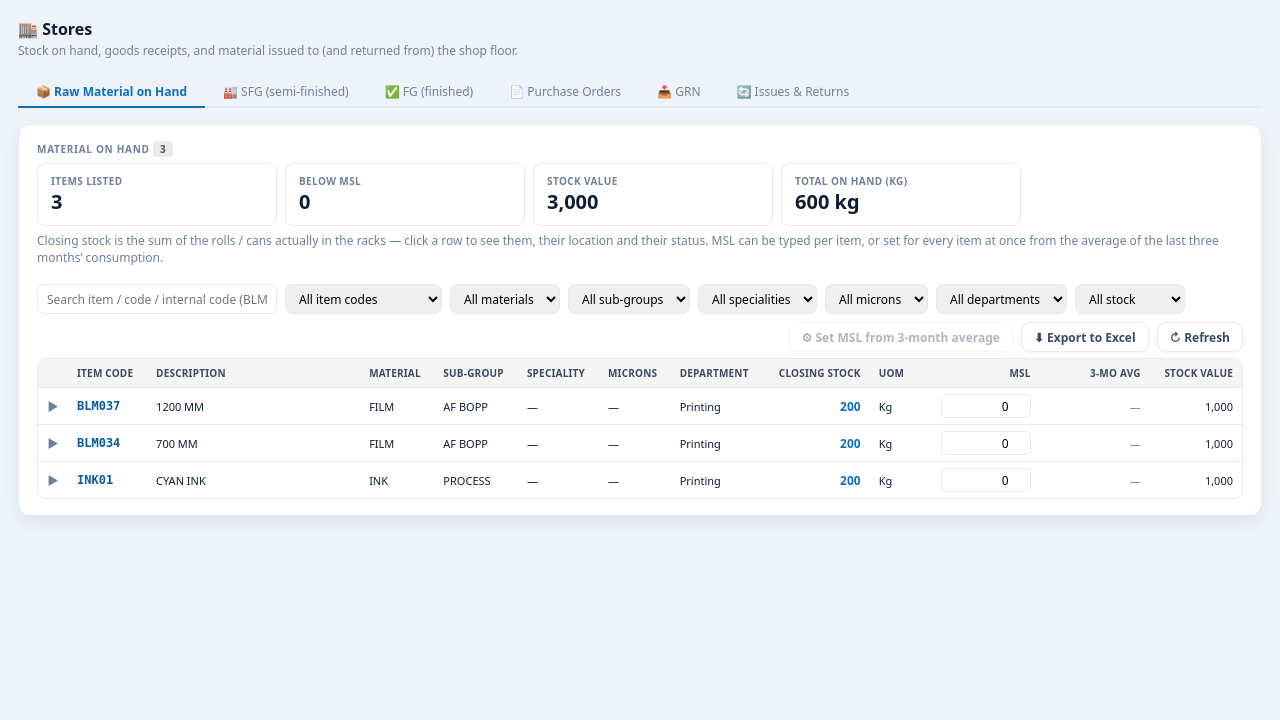
Test: Stores — the on-hand board › finds an item by a roll's internal code, and the split tag opens the trace
This screenshot has width=1280, height=720.
Expected: the text "BLM037" is shown, [68,388,147,424]
In the field named "Search items": (157, 299) [37,284,277,314], type "332"
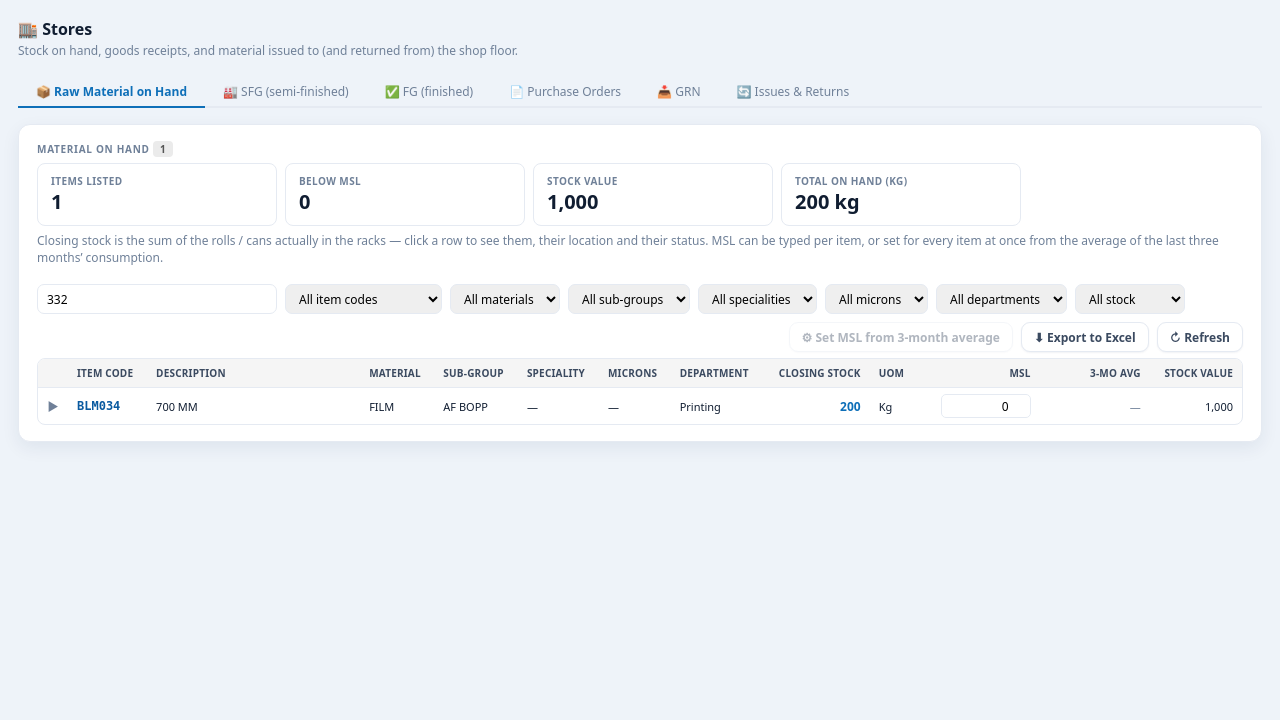
Expected: the text "BLM034" is shown, [68,388,147,424]
Now the text "BLM037" is gone
Replace the text in the field named "Search items" with "blmu-7": (157, 299) [37,284,277,314]
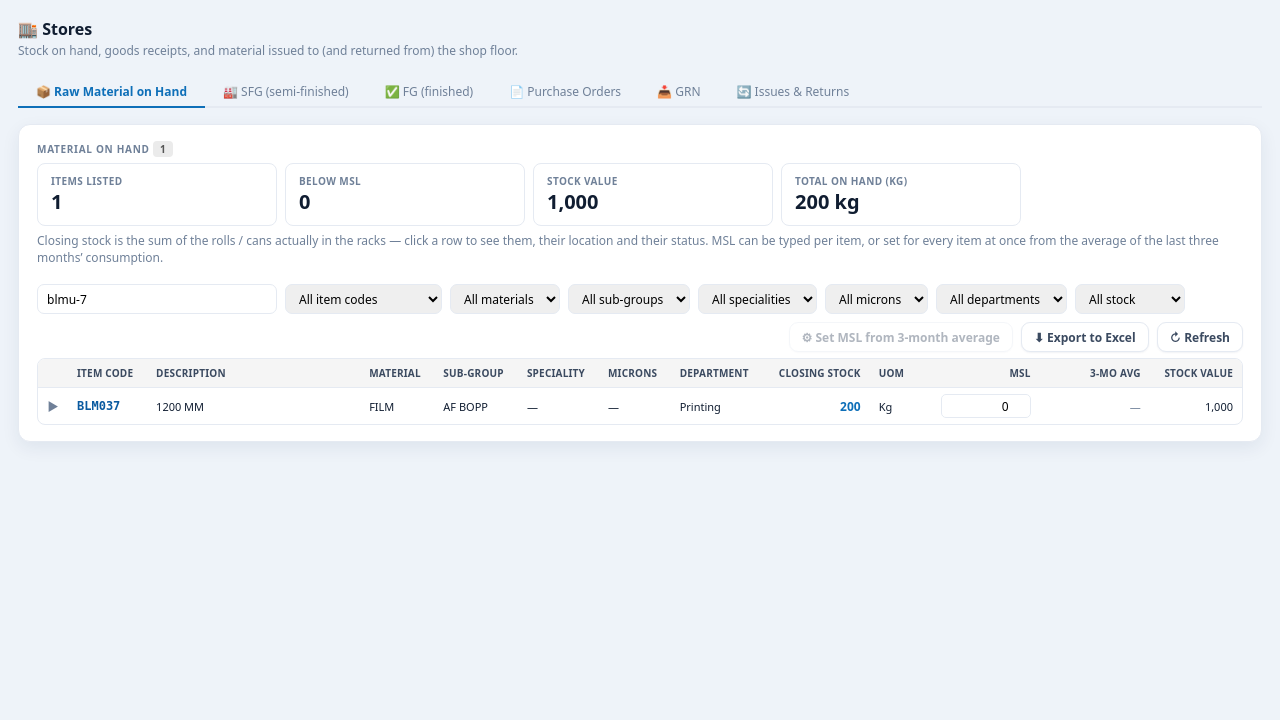
Now the text "BLM037" is shown, box [68,388,147,424]
